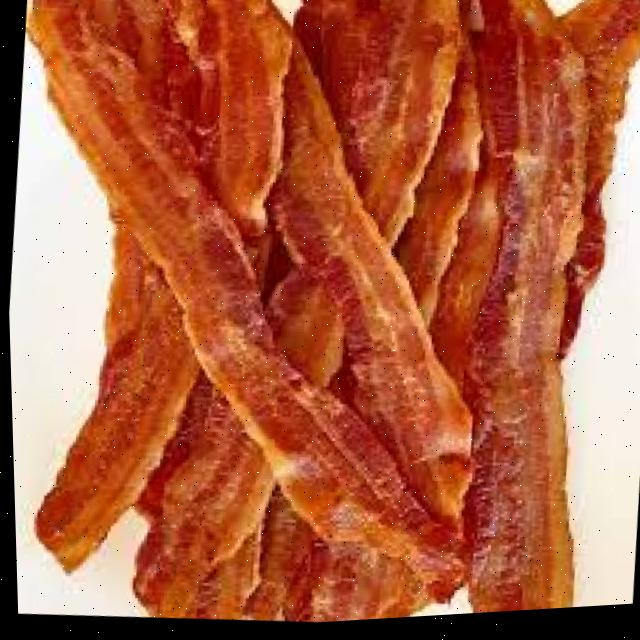Bacon: (28, 0, 640, 626), (30, 0, 459, 589), (266, 43, 468, 540), (294, 0, 461, 247), (129, 376, 270, 619)
